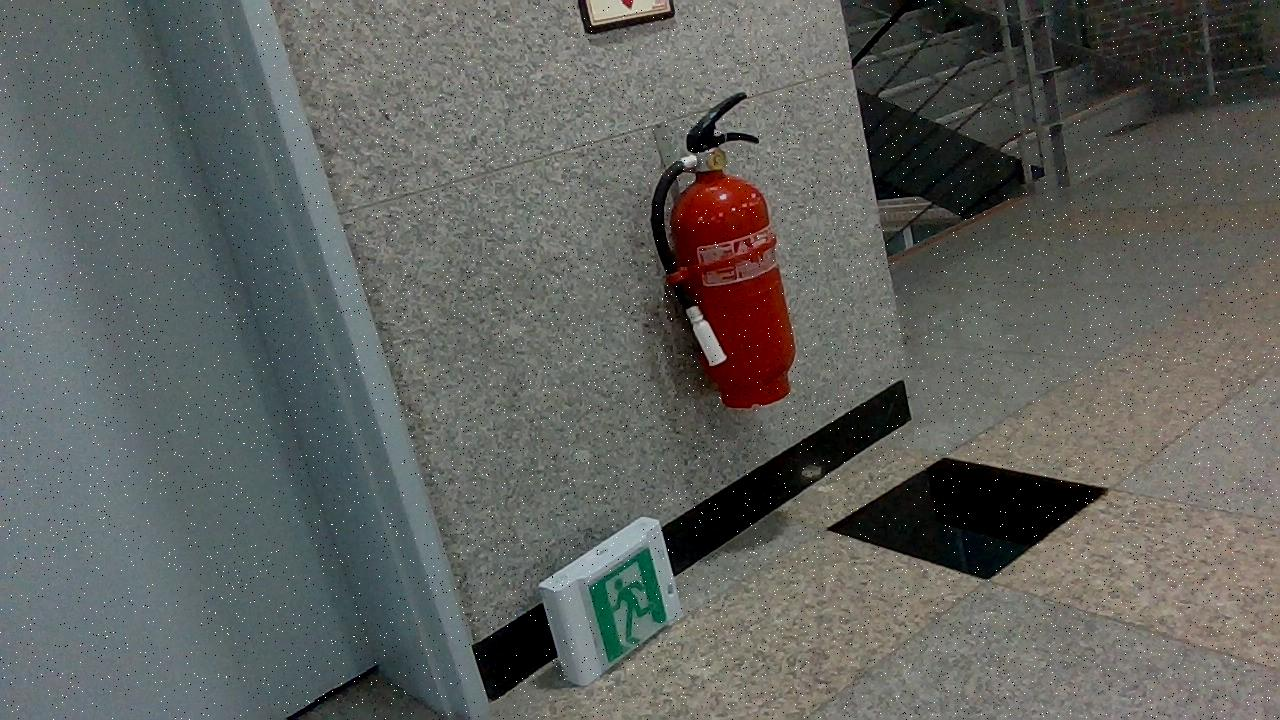emergency_exit: (649, 92, 798, 410), (537, 516, 684, 687), (578, 0, 675, 34)
